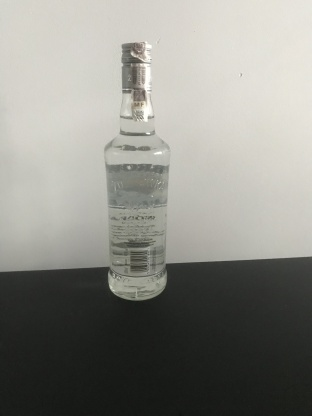nakretka: (119, 39, 153, 94)
